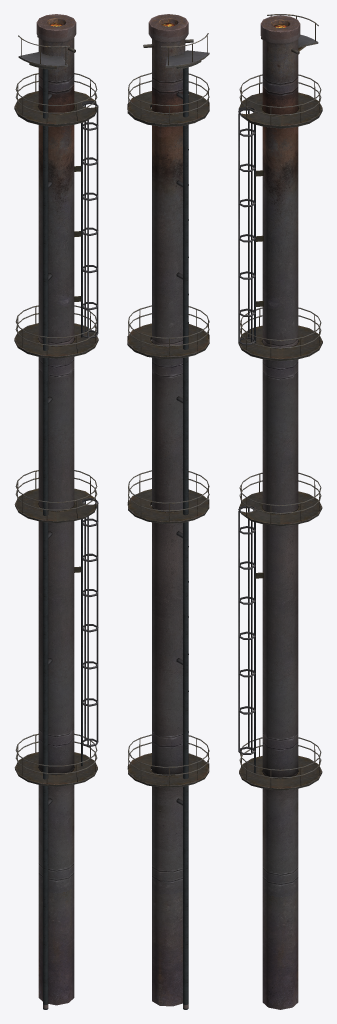
Rendered from chimney_01.FBX.
3 views of the same model, side by side, from view 1: azimuth 90°, elevation 25°; view 2: azimuth 150°, elevation 25°; view 3: azimuth 270°, elevation 25° (orthographic).
Parts seen in each view (by area): view 1: Object155; view 2: Object155; view 3: Object155.
Boxes of the visible parts, bbox=[...] form: Object155: bbox=[14, 14, 98, 1009]; Object155: bbox=[127, 14, 209, 1009]; Object155: bbox=[238, 14, 322, 1009].
Size of the model in its own units: 238 by 238 by 3029.
1 material, 1 textured.
